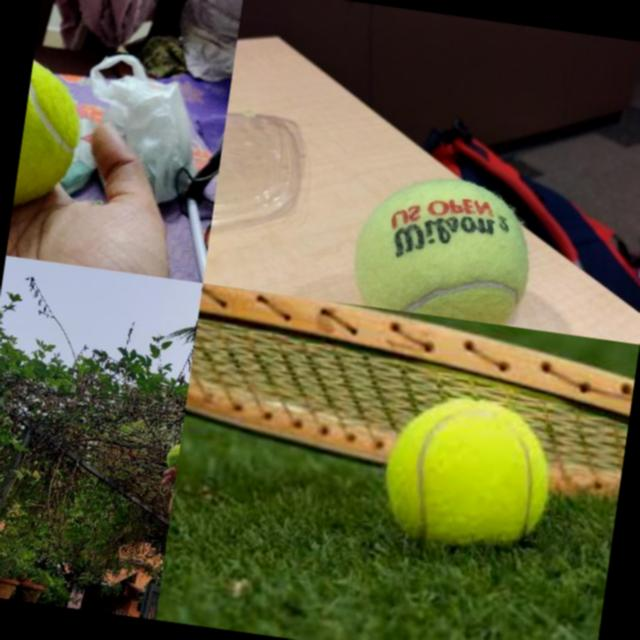Tennis Ball: (376, 385, 562, 557), (348, 165, 544, 327), (13, 61, 88, 216), (163, 442, 180, 476)
